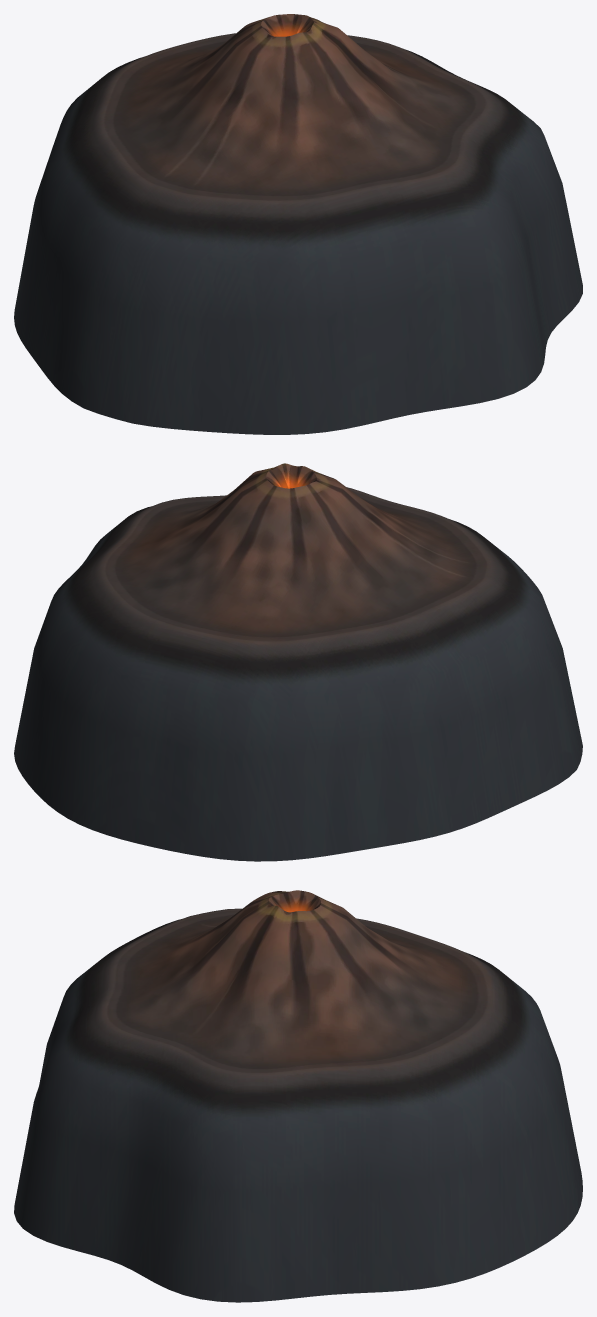
File: volcanic_1.glb
3 views of the same model, one above another, from view 1: azimuth 30°, elevation 25°; view 2: azimuth 150°, elevation 25°; view 3: azimuth 270°, elevation 25° (orthographic). The views are drawn at different scales.
Visible parts, largest first — view 1: volcanic_1; view 2: volcanic_1; view 3: volcanic_1.
Boxes of the visible parts, <box> form: volcanic_1: <box>14,14,582,434</box>; volcanic_1: <box>14,463,582,861</box>; volcanic_1: <box>14,890,582,1302</box>.
Size of the model in its own units: 31.7 by 17.21 by 31.33.
1 material, 1 textured.
